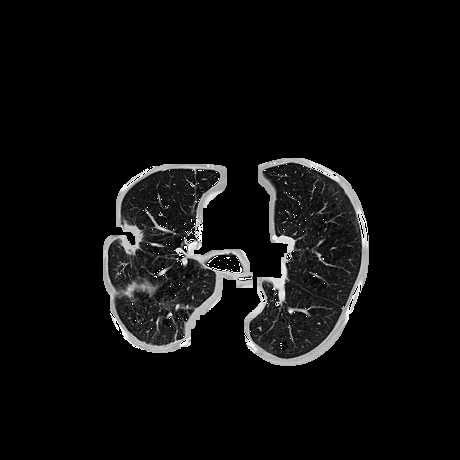PN: (118, 227, 142, 251)
